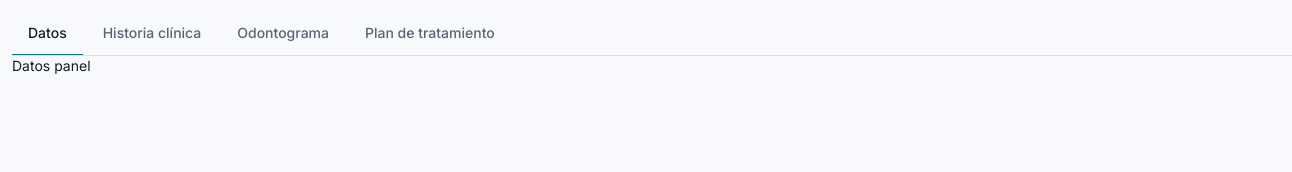
Test: PatientDetailTabs › lets a user click the Odontograma tab and shows its panel
The width and height of the screenshot is (1292, 172).
Click the tab "Odontograma".
click(283, 34)  # box [221, 12, 345, 56]
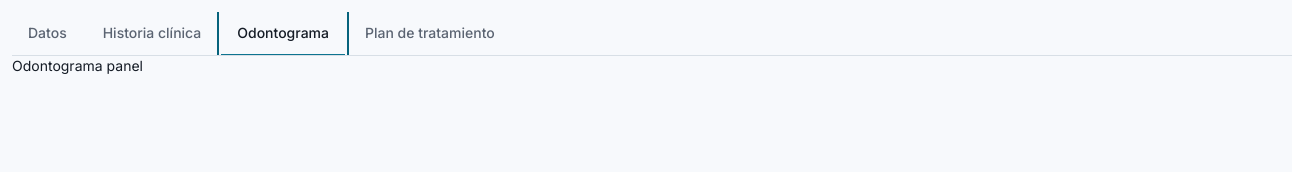
Result: the text "Odontograma panel" is shown at [12, 57, 143, 74]
Result: the text "Datos panel" is gone
